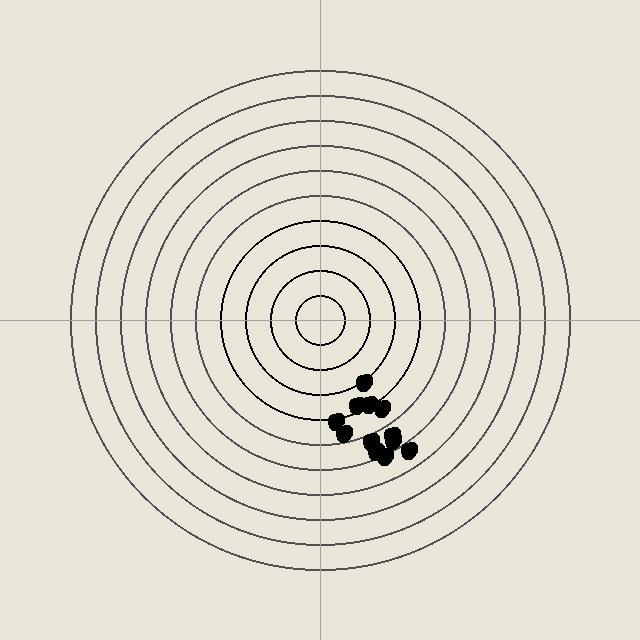good_group: (371, 398, 391, 418), (398, 440, 418, 460), (365, 441, 385, 461), (381, 425, 401, 445), (346, 395, 366, 415), (374, 446, 394, 466), (382, 430, 402, 450), (333, 423, 353, 443), (360, 431, 380, 451), (353, 372, 373, 392), (325, 411, 345, 431), (358, 394, 378, 414)
